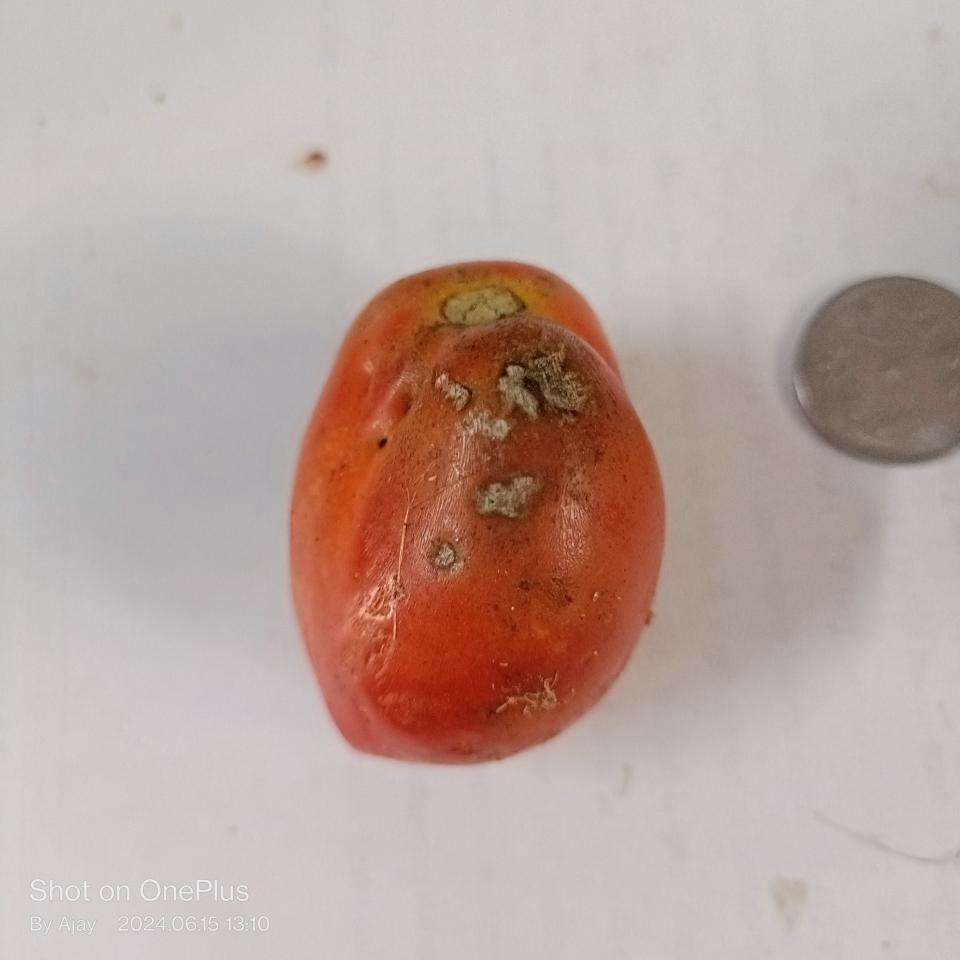Bacterial_Spot: (424, 328, 600, 583)
